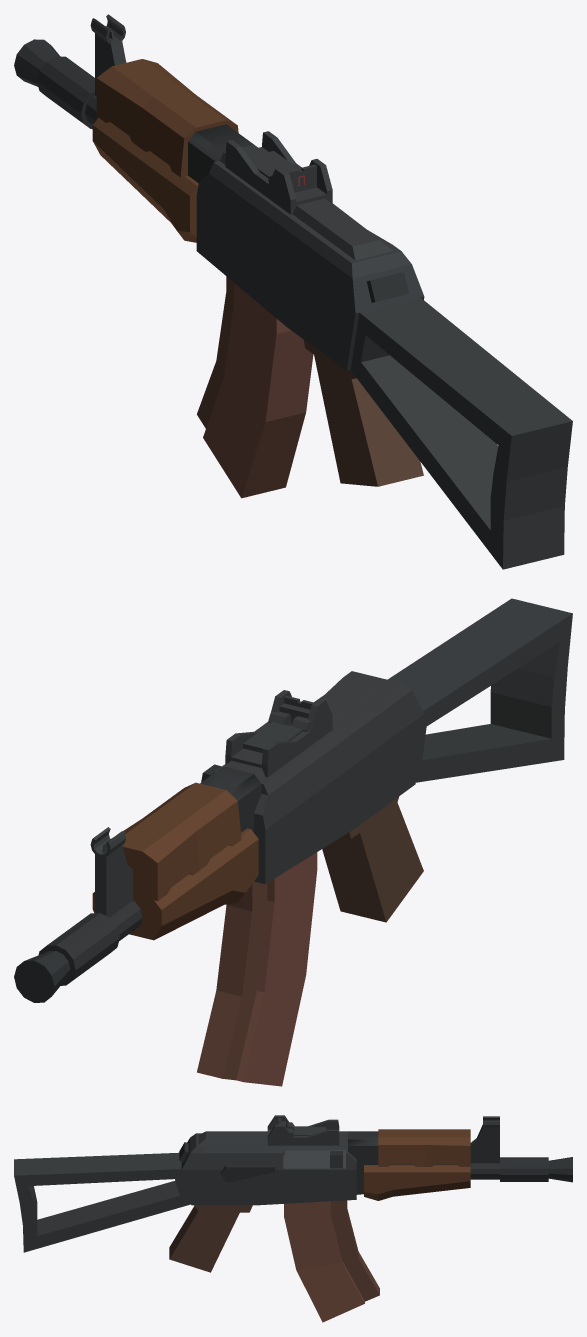
Rendered from AKS-74U.glb.
The picture shows the model from 3 angles, top to bottom: view 1: azimuth 30°, elevation 25°; view 2: azimuth 150°, elevation 25°; view 3: azimuth 270°, elevation 25°; orthographic projection. The views are drawn at different scales.
Visible parts, largest first — view 1: Gun, Magazine, Sight; view 2: Gun, Magazine, Sight; view 3: Gun, Magazine, Sight.
Part boxes in pixels (x1,y1,x2,y2): Gun: (14,14,572,569); Magazine: (197,276,313,498); Sight: (225,131,332,214); Gun: (14,598,572,1002); Magazine: (197,852,317,1086); Sight: (225,690,332,777); Gun: (14,1116,572,1272); Magazine: (284,1200,379,1322); Sight: (267,1115,339,1145).
Size of the model in its own units: 5.15 by 22.44 by 57.52.
2 materials, 2 textured.
